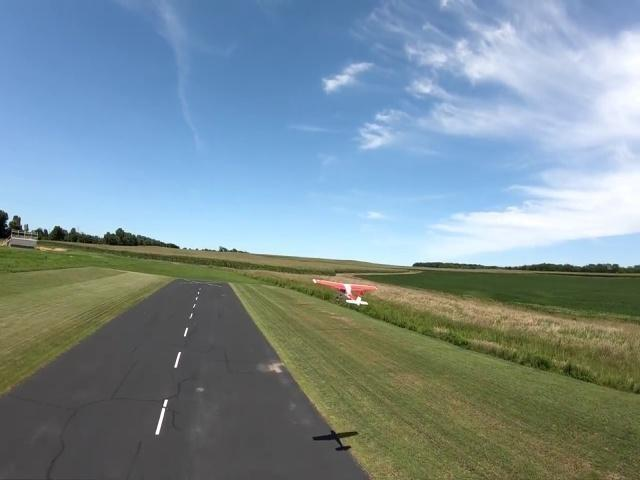Airplane: (313, 279, 377, 306)
